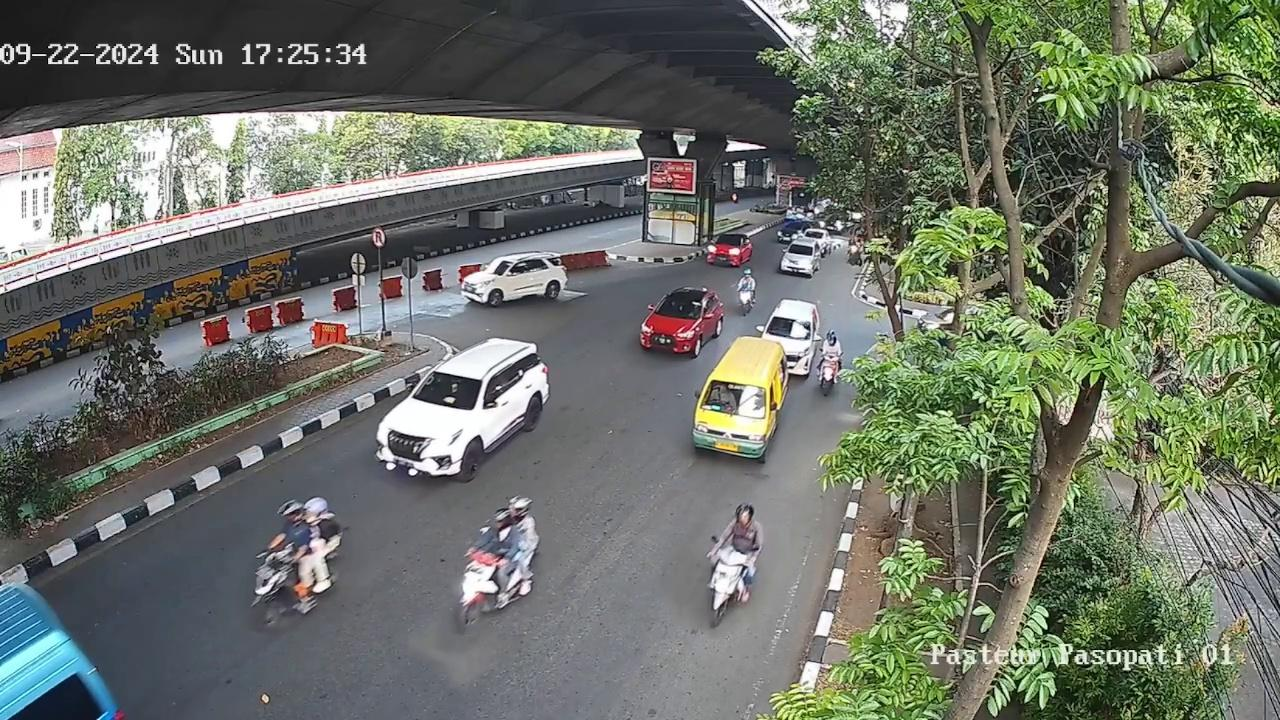tidak-pakai: (709, 386, 736, 409)
windshield: (415, 372, 484, 407), (700, 383, 767, 416), (654, 298, 702, 319), (768, 316, 813, 338)
